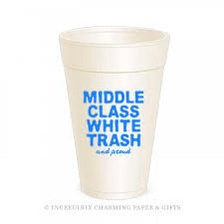paper_cup: (53, 20, 174, 205)
